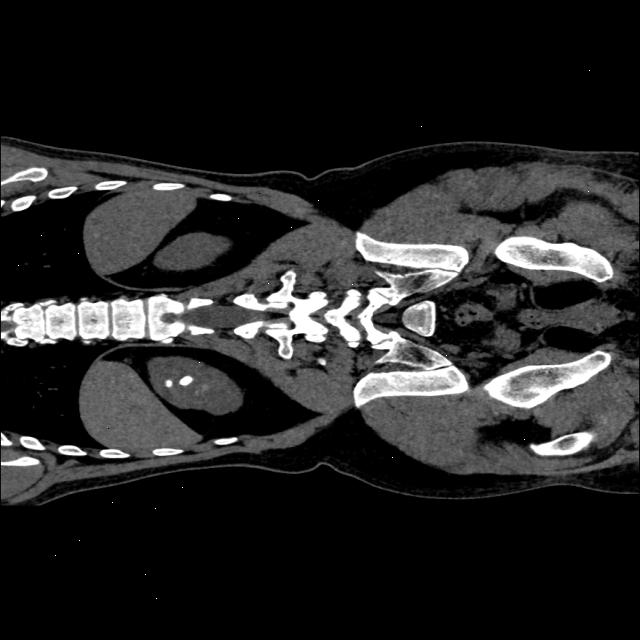kidneystone: (179, 380, 189, 384)
